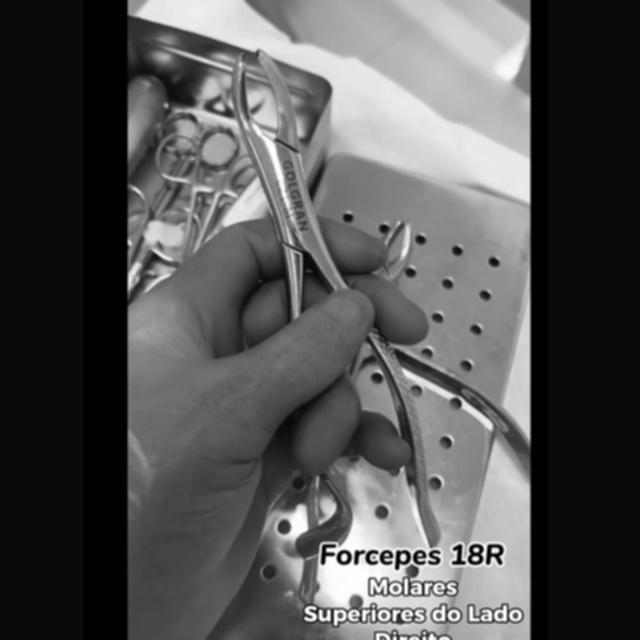forceps: (236, 51, 350, 323), (381, 362, 439, 546), (278, 478, 321, 537)
